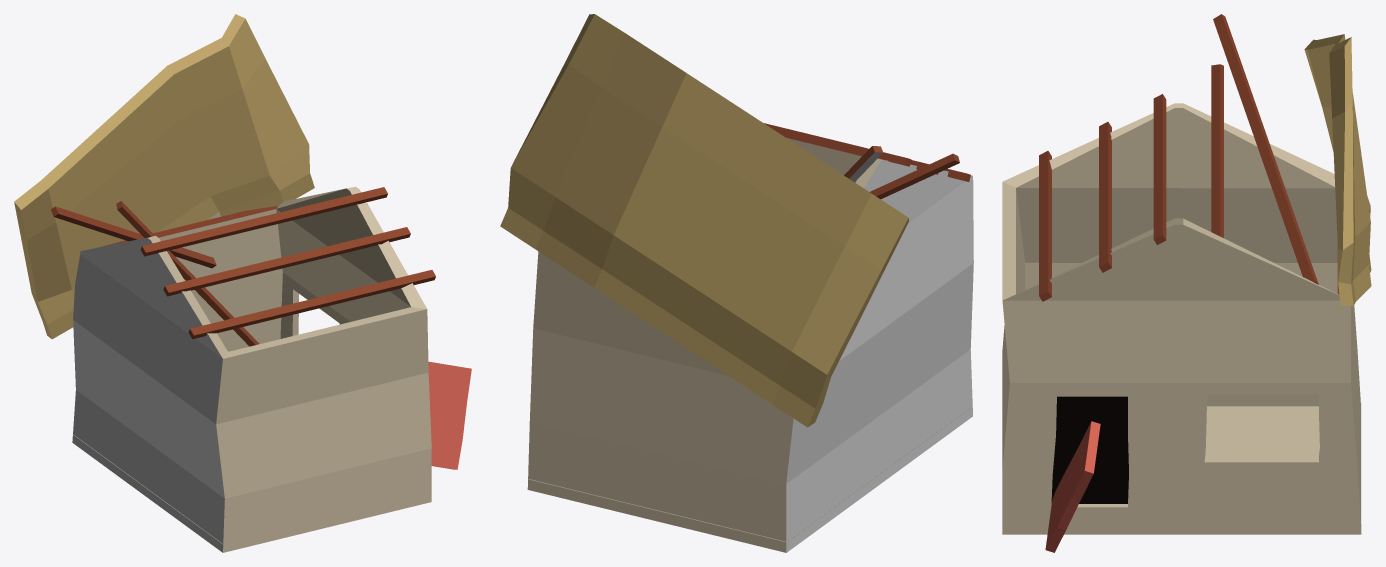
Rendered from house_d3.fbx.
3 views of the same model, side by side, from view 1: azimuth 30°, elevation 25°; view 2: azimuth 150°, elevation 25°; view 3: azimuth 270°, elevation 25° (orthographic). The views are drawn at different scales.
Parts seen in each view (by area): view 1: 1_House_1 _30; view 2: 1_House_1 _30; view 3: 1_House_1 _30.
Boxes of the visible parts, x1=… form: 1_House_1 _30: x1=14, y1=14, x2=471, y2=552; 1_House_1 _30: x1=500, y1=14, x2=973, y2=552; 1_House_1 _30: x1=1002, y1=14, x2=1371, y2=552.
Size of the model in its own units: 5.83 by 6.05 by 4.31.
